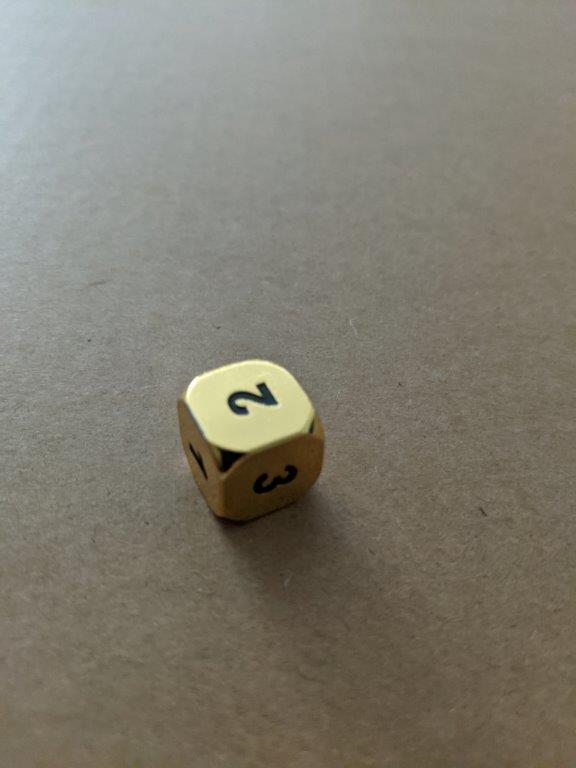d6-2: (175, 355, 326, 525)
